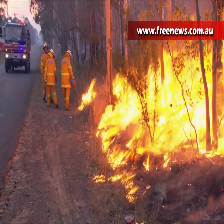fire_h: (96, 45, 224, 201), (110, 172, 138, 202), (79, 79, 96, 111)
fire_l: (93, 173, 105, 183), (141, 184, 150, 197)
